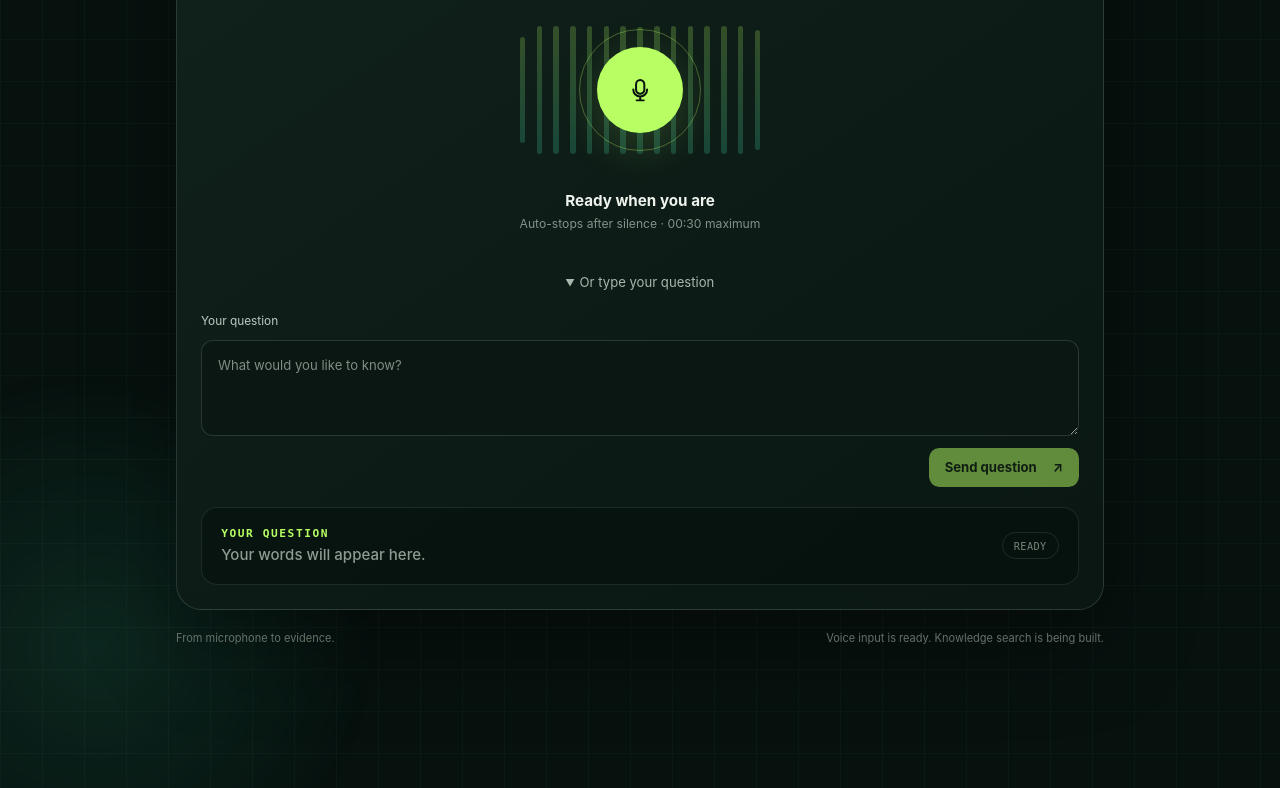
question flow › cancels a query and ignores a late response
The image size is (1280, 788).
(page scrolled)
Type "First question" into the text box labelled "Your question" at [640, 388], box [201, 340, 1079, 436]
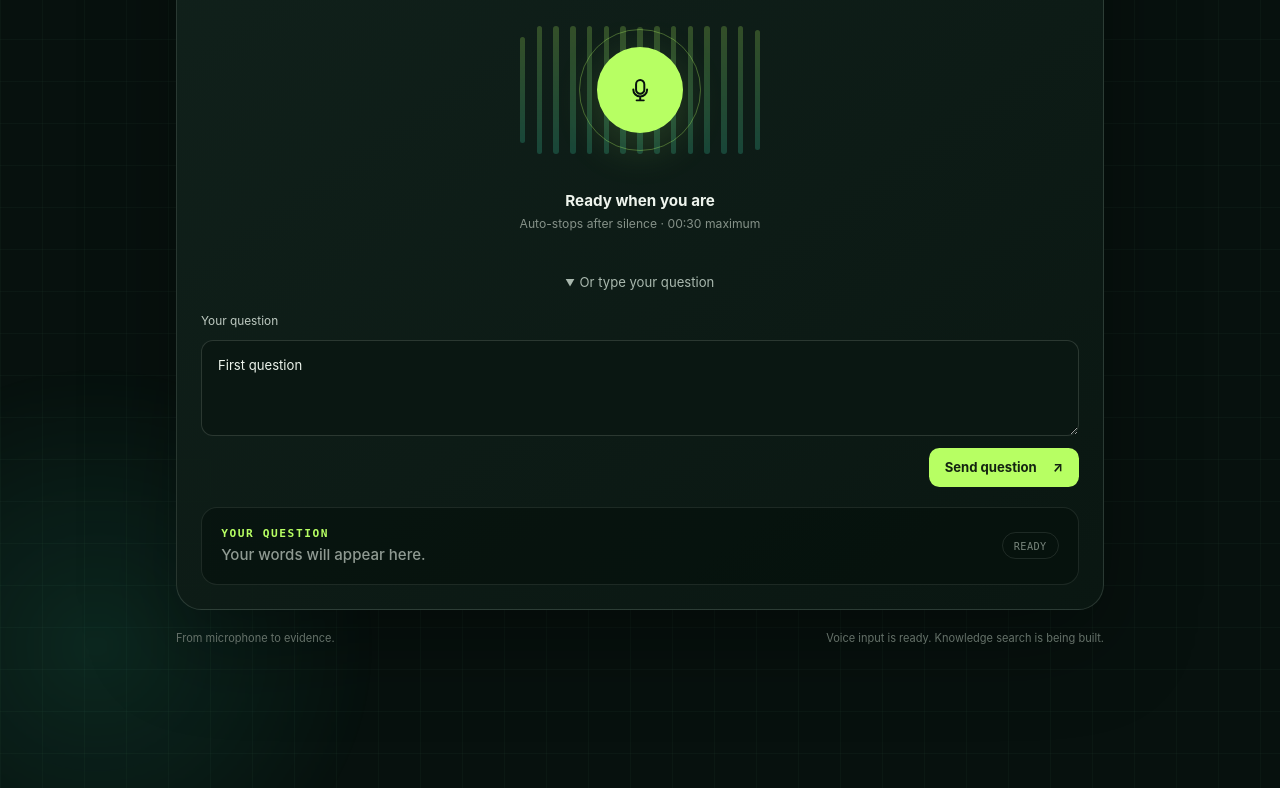
Click the button "Send question ↗" at [1004, 467], box [929, 448, 1079, 487]
(page scrolled)
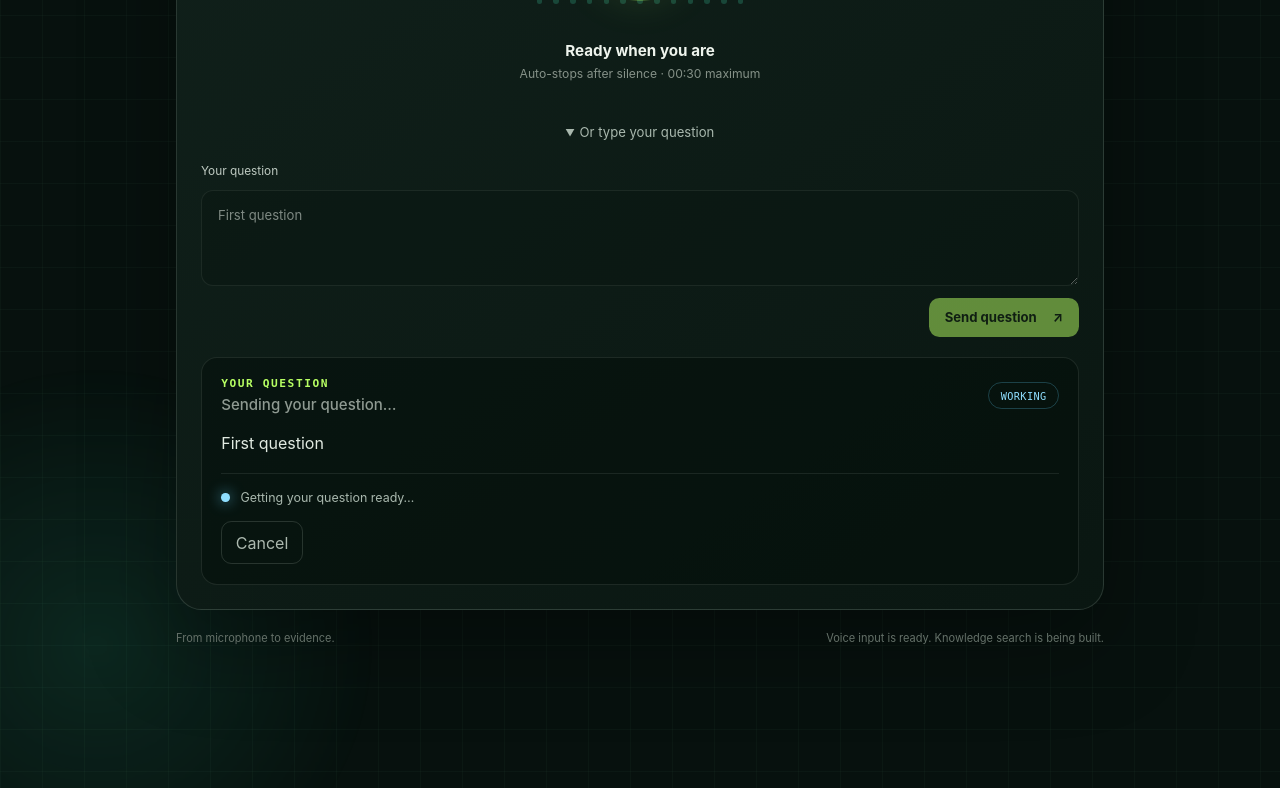
Check: the heading "Sending your question…" is shown, box [221, 395, 396, 414]
Click the button "Cancel" at [262, 543], box [221, 521, 303, 564]
(page scrolled)
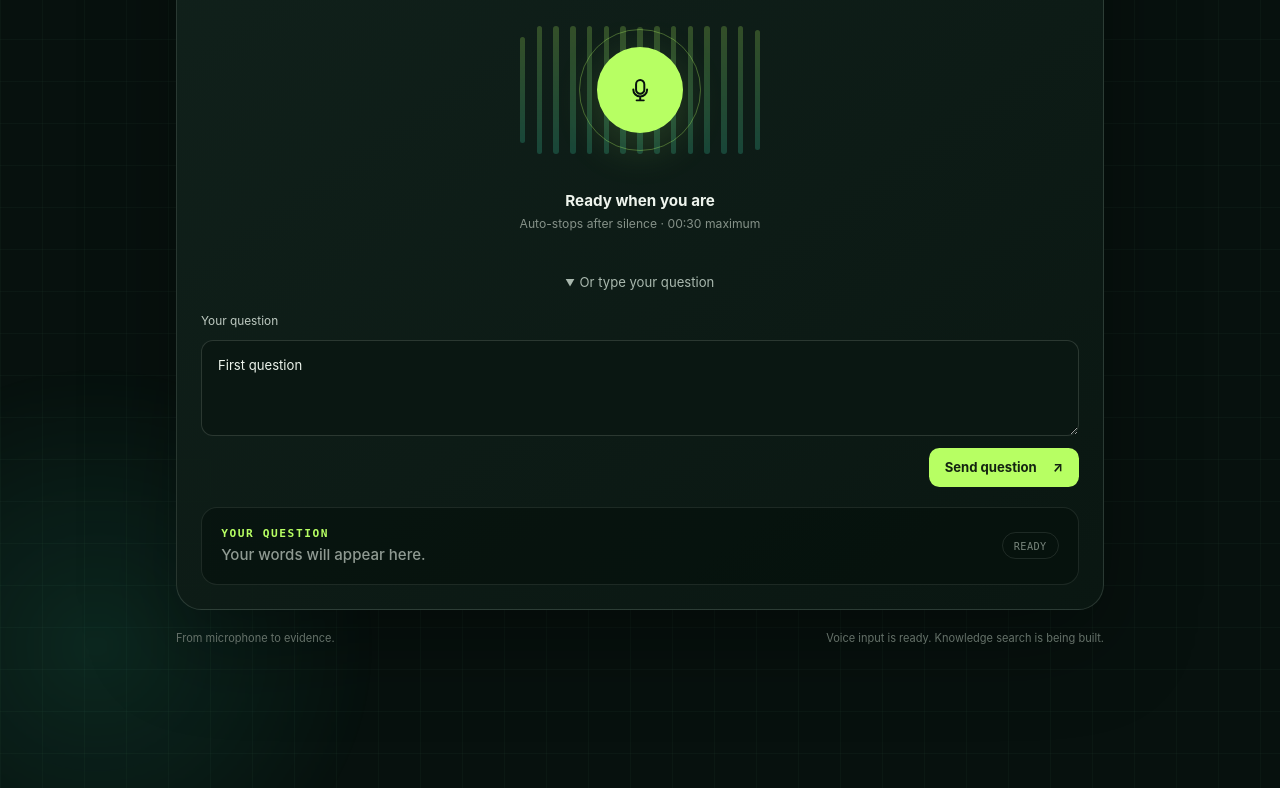
Replace the text in the text box labelled "Your question" with "Second question" at [640, 388], box [201, 340, 1079, 436]
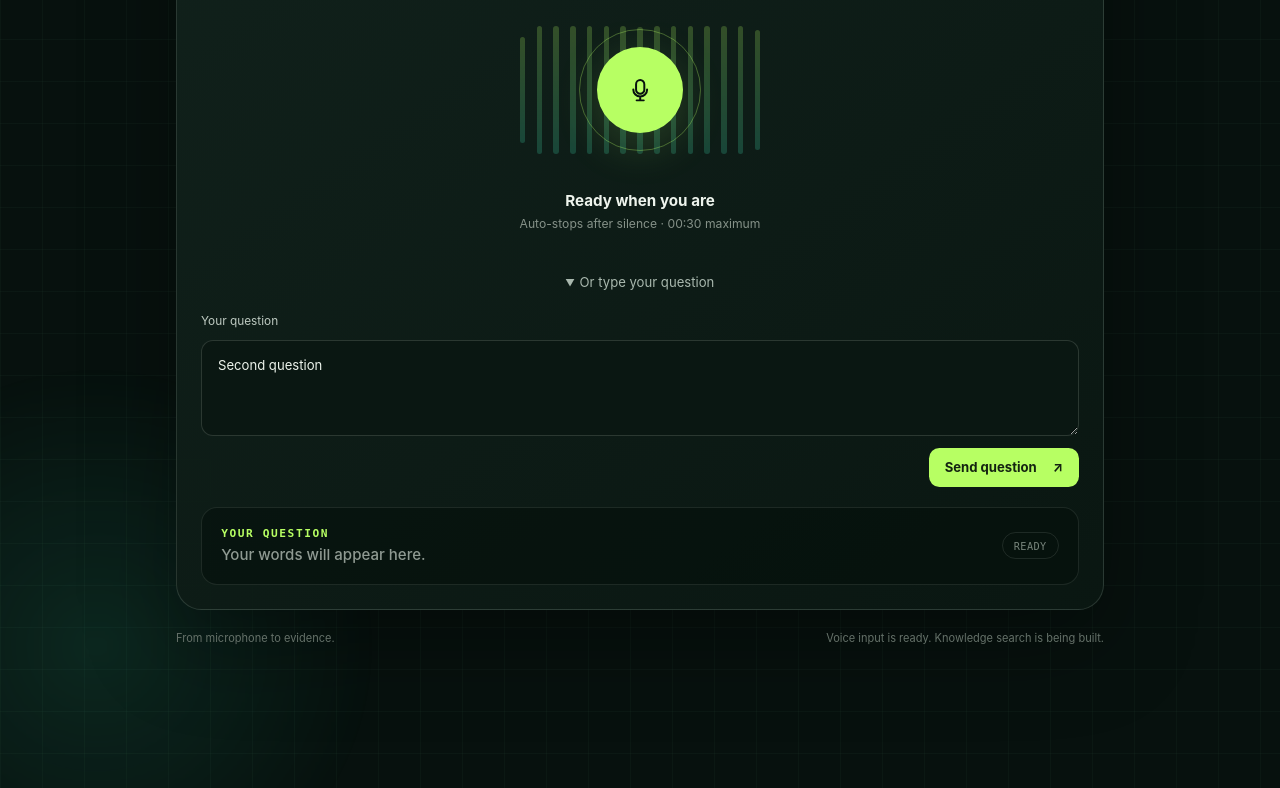
Click the button "Send question ↗" at [1004, 467], box [929, 448, 1079, 487]
(page scrolled)
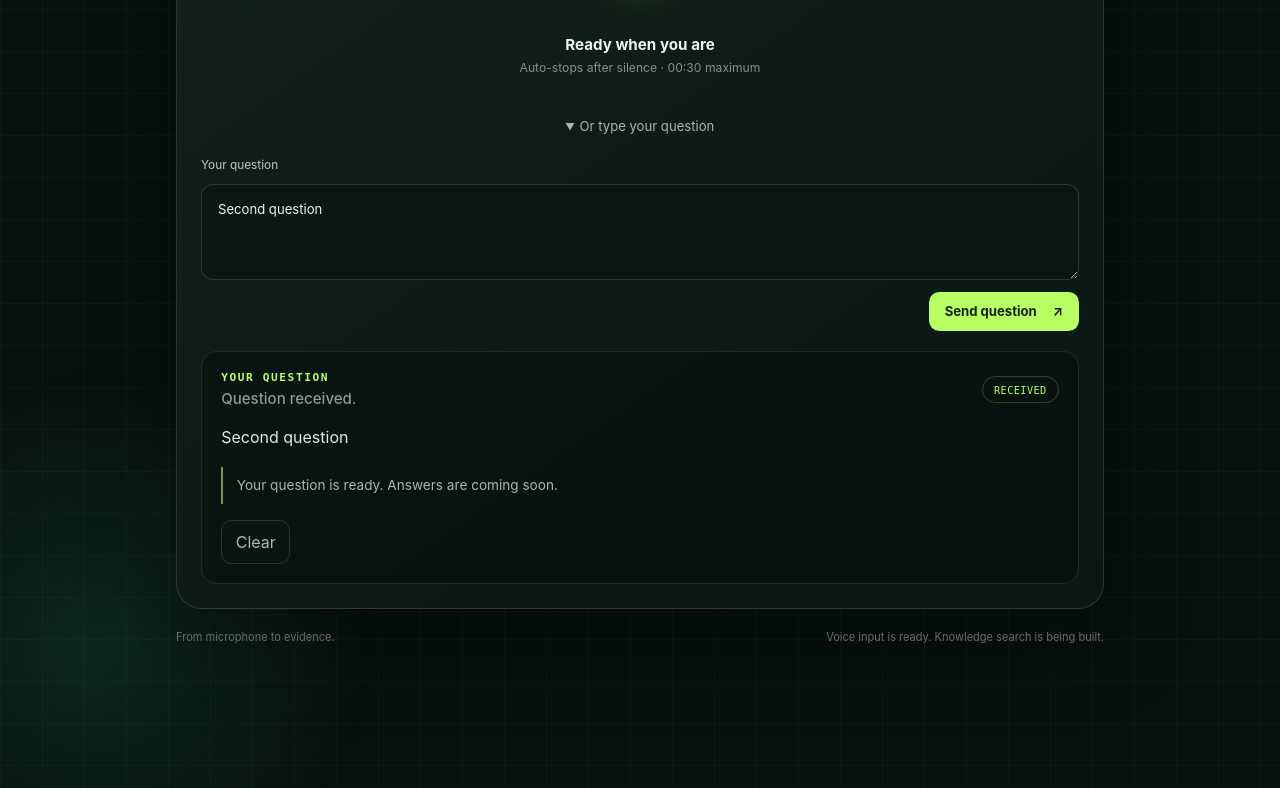
Check: the text "First question" is not shown
Check: the heading "Question received." is shown, box [221, 389, 356, 408]
Check: the text "Second question" is shown, box [221, 427, 348, 447]
